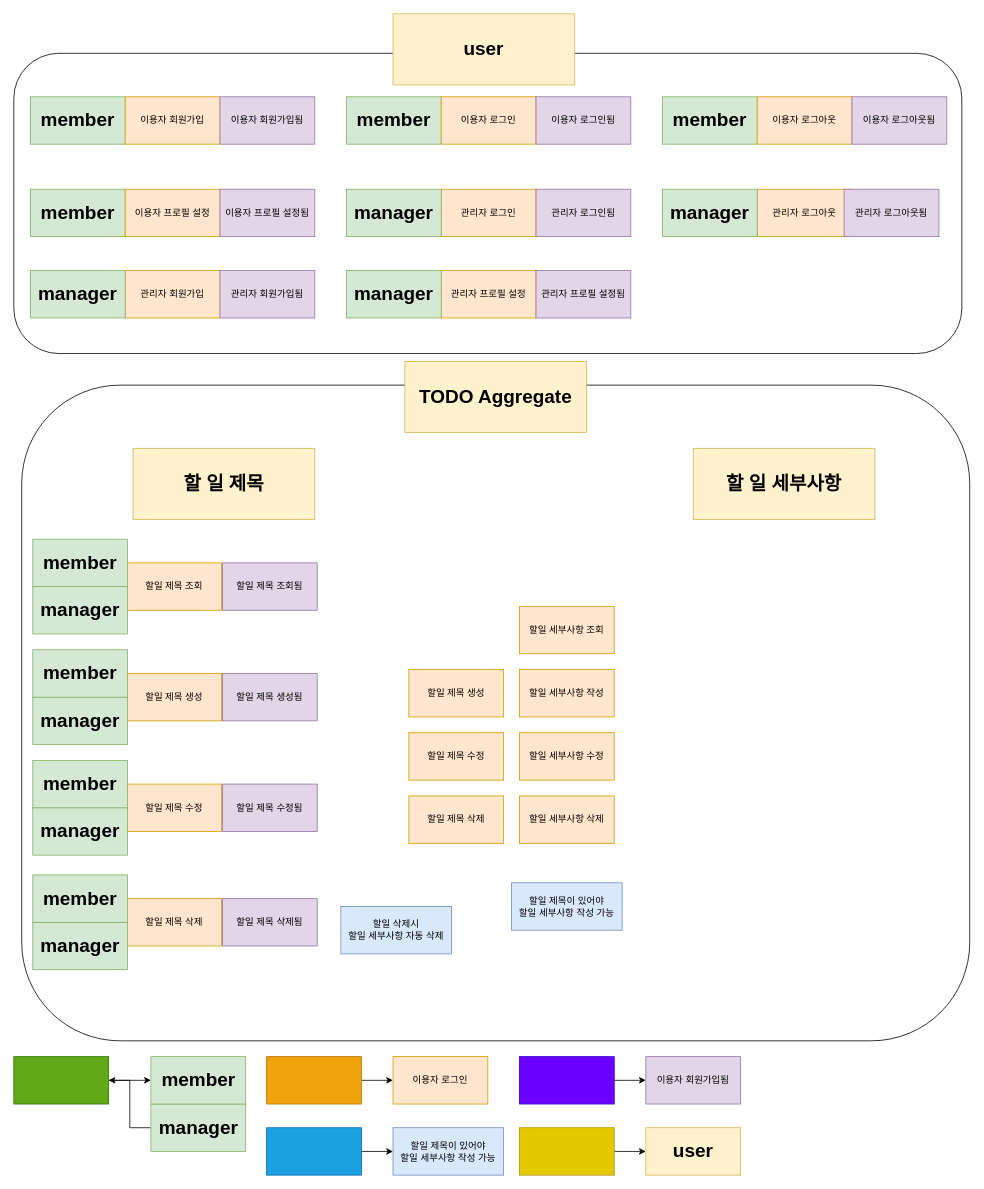
Some shapes in this 984 by 1189 pixel diagram are drawn without their labels. Each missing label, with the centre of its shape:
Actor: pixel 61 1080
Aggregate: pixel 566 1151
Command: pixel 566 1080
Event: pixel 313 1080
Policy: pixel 313 1151
